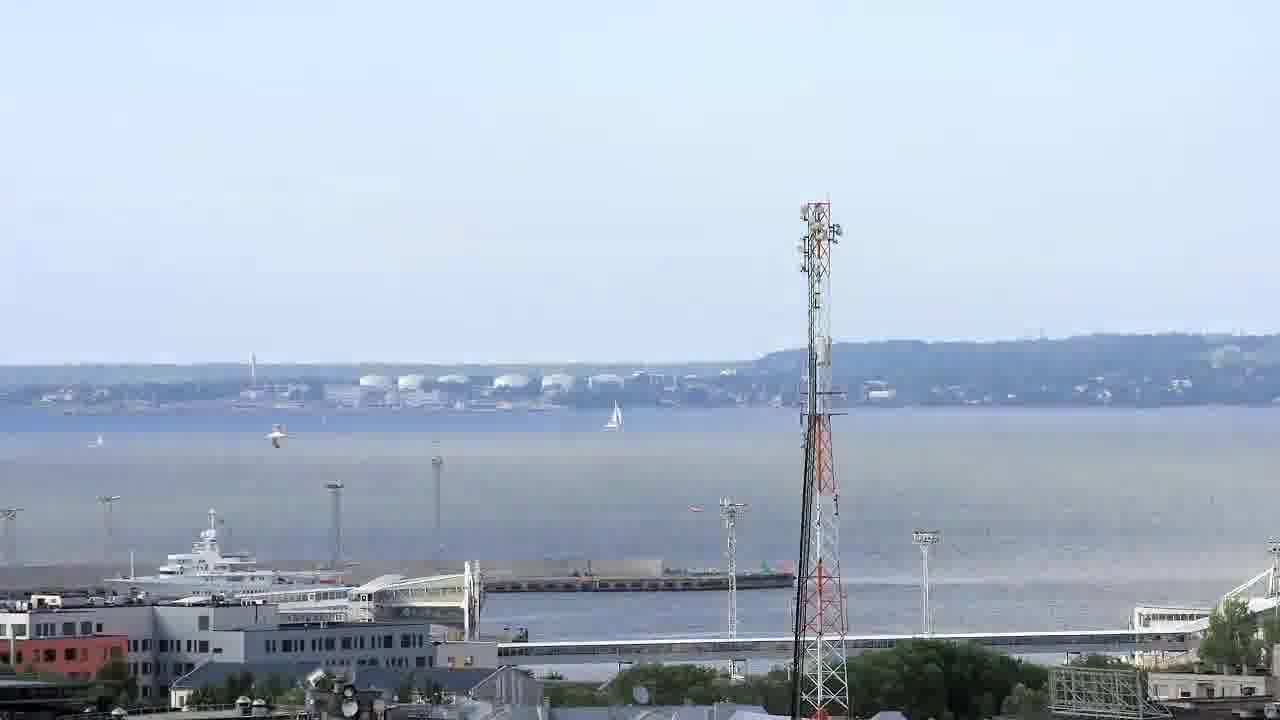type-2: (588, 381, 643, 444)
type-3: (88, 507, 346, 605)
